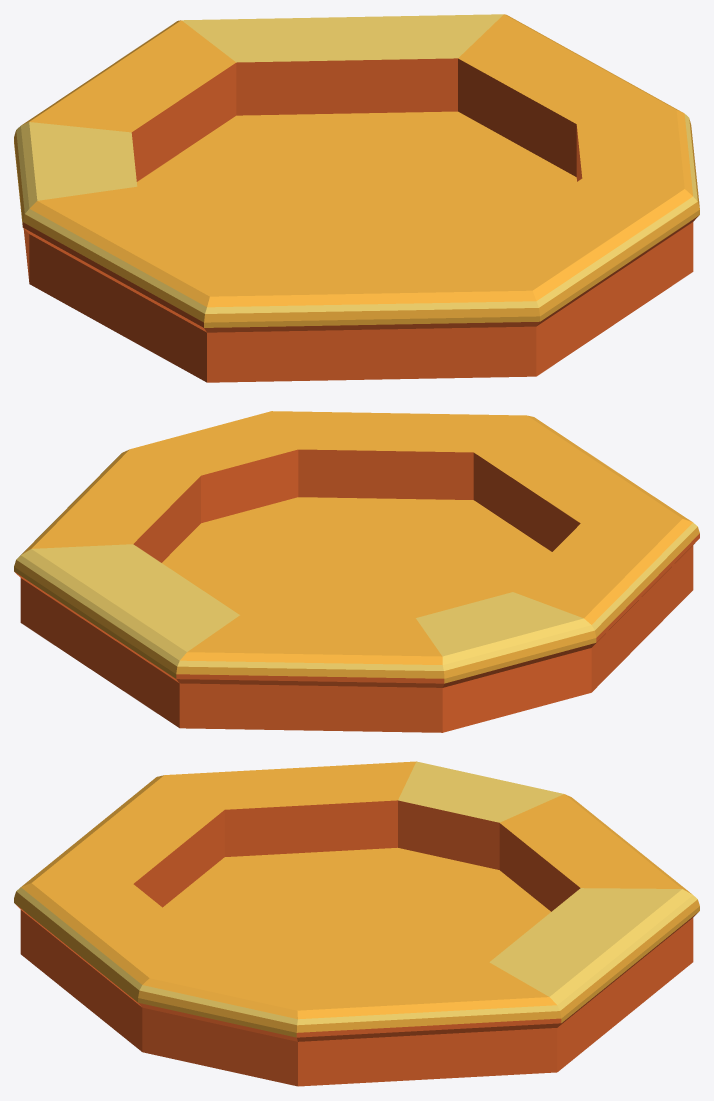
3 views of the same model, one above another, from view 1: azimuth 30°, elevation 25°; view 2: azimuth 150°, elevation 25°; view 3: azimuth 270°, elevation 25° (orthographic). The views are drawn at different scales.
Parts seen in each view (by area): view 1: Plane Main.002; view 2: Plane Main.002; view 3: Plane Main.002.
Boxes of the visible parts, x1,y1,x2,y2 form: Plane Main.002: (14,14,699,382); Plane Main.002: (14,411,699,732); Plane Main.002: (14,761,699,1086).
Bounding box in the file's own units: 1325 × 171 × 1469.
